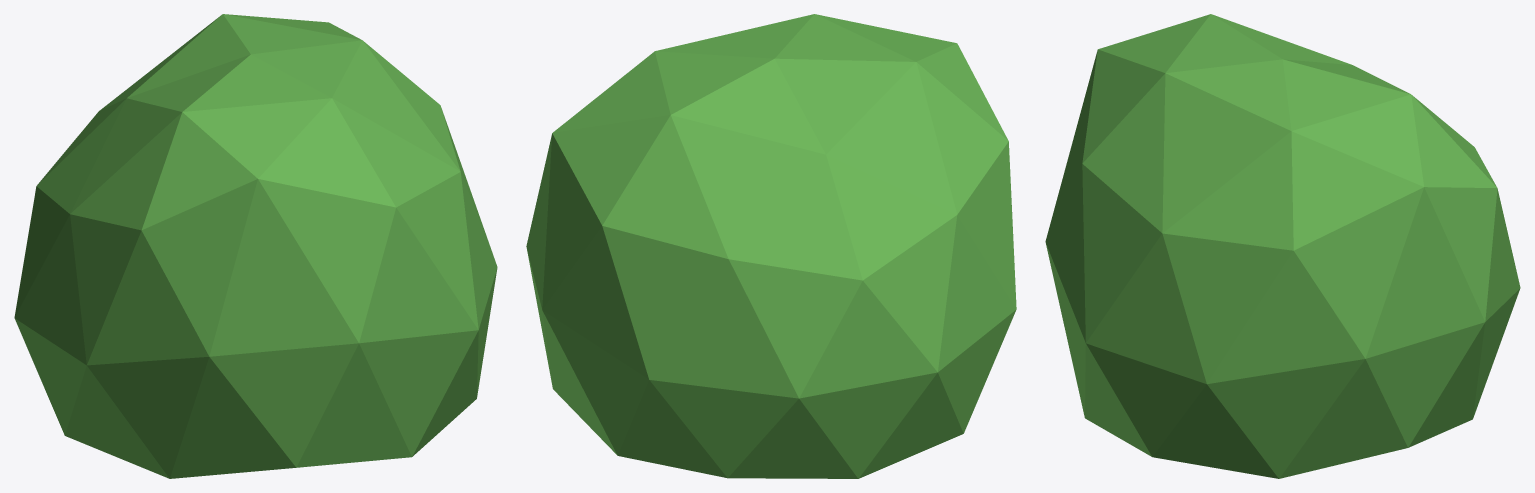
The model's file is Bush_02 2.glb.
3 views of the same model, side by side, from view 1: azimuth 30°, elevation 25°; view 2: azimuth 150°, elevation 25°; view 3: azimuth 270°, elevation 25° (orthographic). The views are drawn at different scales.
Parts seen in each view (by area): view 1: Bush_02_LOD0; view 2: Bush_02_LOD0; view 3: Bush_02_LOD0.
Part boxes in pixels (x1=…): Bush_02_LOD0: x1=14, y1=14, x2=497, y2=478; Bush_02_LOD0: x1=526, y1=14, x2=1016, y2=478; Bush_02_LOD0: x1=1045, y1=14, x2=1520, y2=478.
Size of what is drawn, in the model's own units: 0.5886 by 0.4947 by 0.6084.
Materials: 1 (1 with a texture image).
